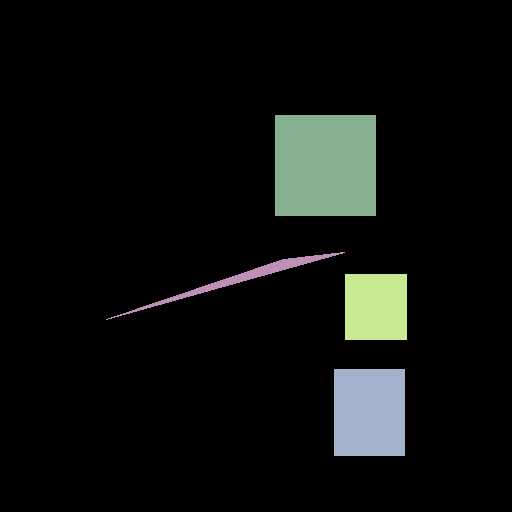rectangle: (334, 369, 404, 455)
square: (275, 115, 375, 215), (345, 274, 406, 339)
